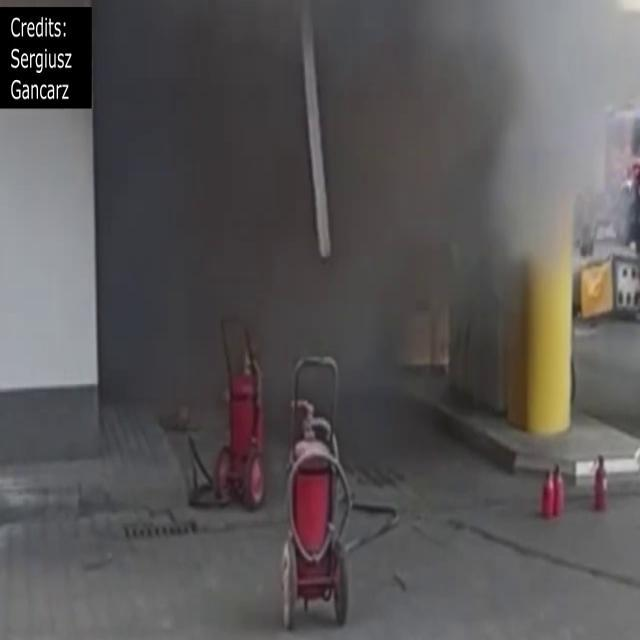Smoke: (296, 1, 622, 440)
